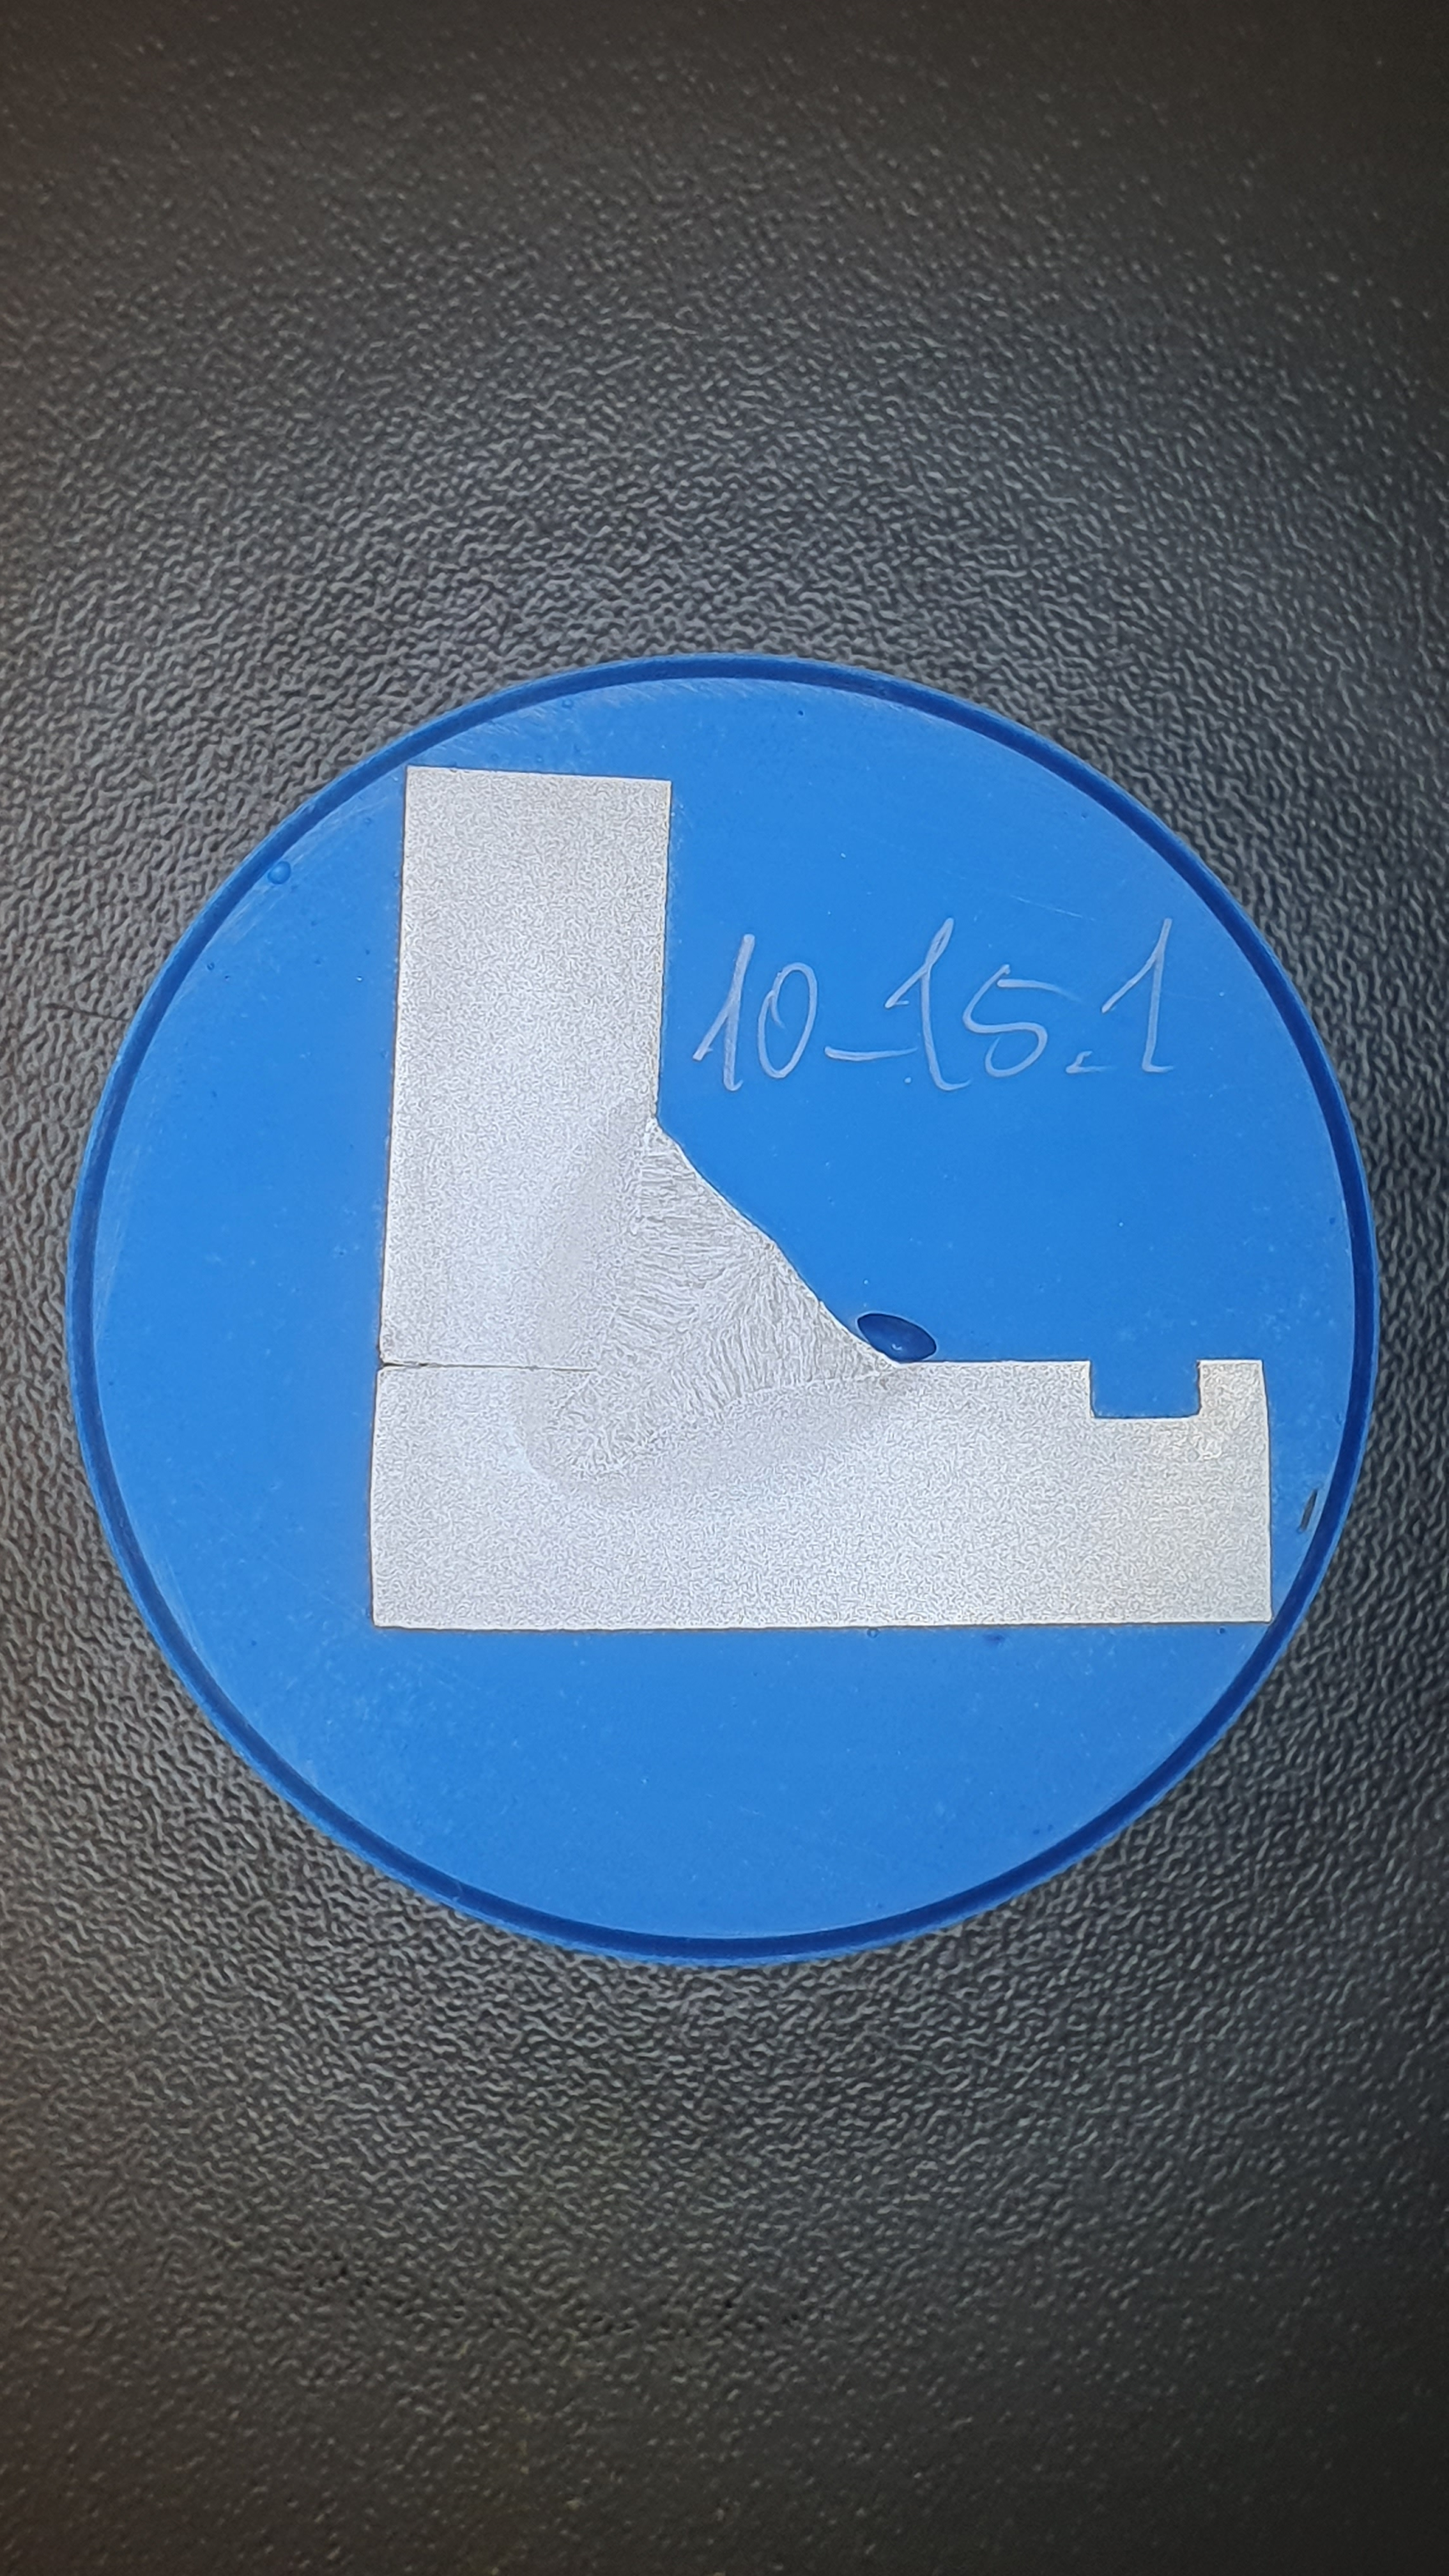Fusion: (550, 1116, 915, 1476)
Hintergrund: (96, 679, 1355, 1936)
Metall: (370, 764, 1272, 1631)
Nebenbereich: (511, 1086, 895, 1511)
